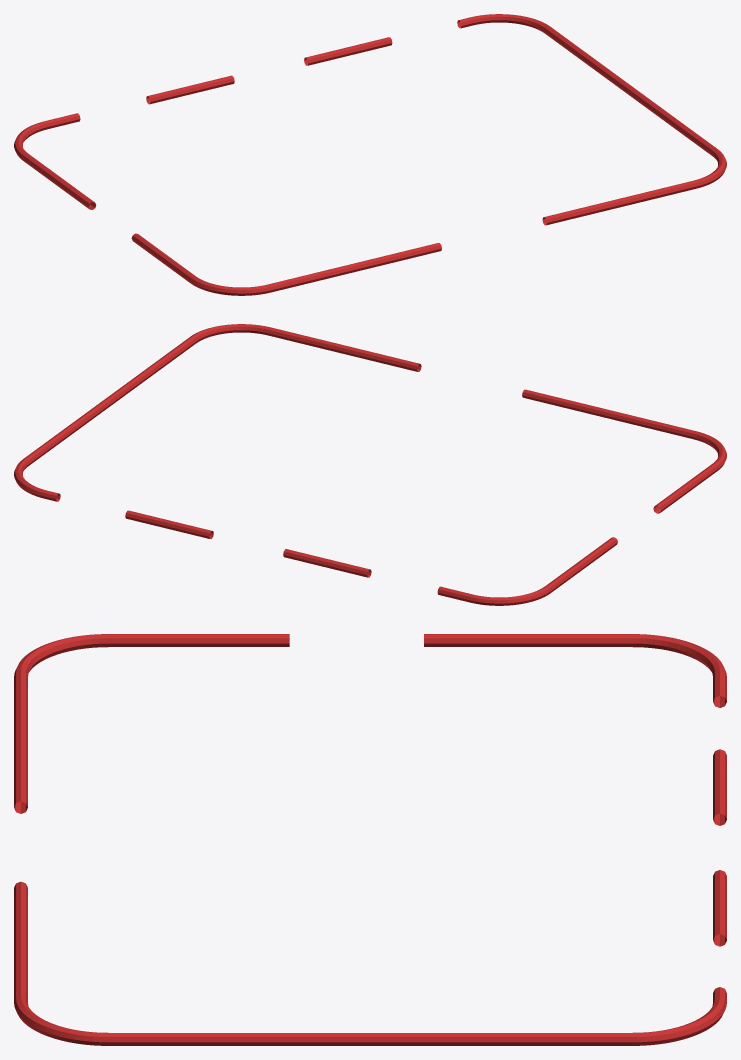
The picture shows the model from 3 angles, top to bottom: view 1: azimuth 30°, elevation 25°; view 2: azimuth 150°, elevation 25°; view 3: azimuth 270°, elevation 25°; orthographic projection. The views are drawn at different scales.
Parts seen in each view (by area): view 1: 3; view 2: 3; view 3: 3.
Part boxes in pixels (<box>): 3: <box>14,14,726,295</box>; 3: <box>14,324,726,605</box>; 3: <box>14,634,726,1045</box>.
Bounding box in the file's own units: 420 × 6.13 × 313.
